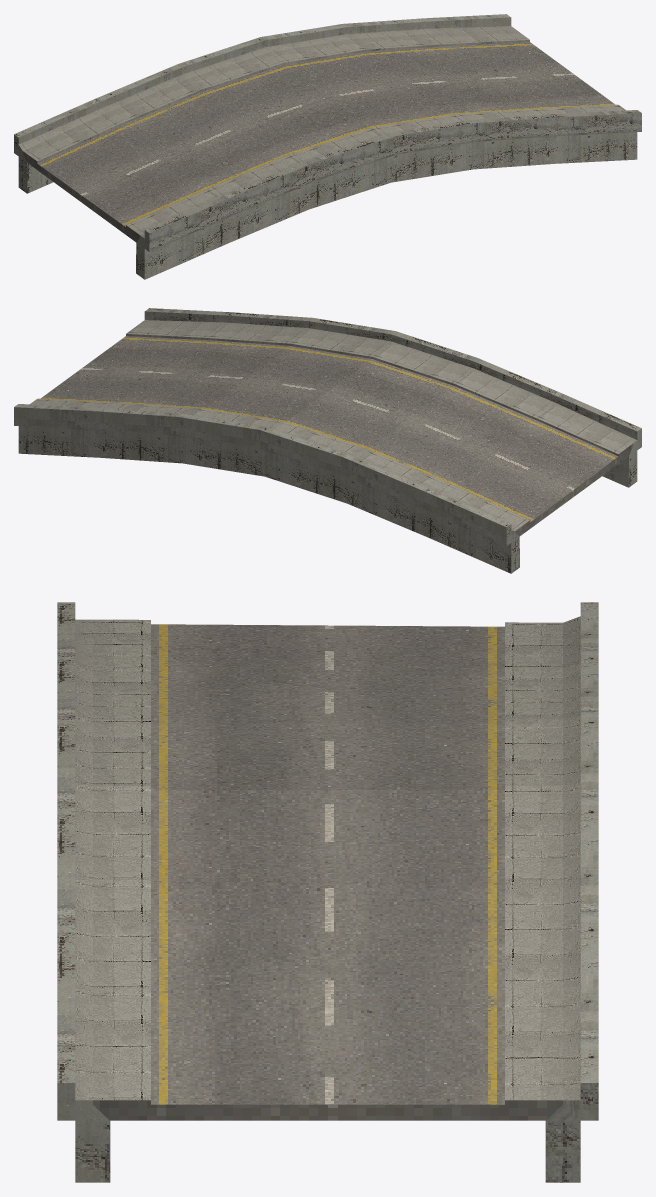
File: road_1_small_bridge.glb
The picture shows the model from 3 angles, top to bottom: view 1: azimuth 30°, elevation 25°; view 2: azimuth 150°, elevation 25°; view 3: azimuth 270°, elevation 25°; orthographic projection. The views are drawn at different scales.
Parts seen in each view (by area): view 1: road_1_small_bridge; view 2: road_1_small_bridge; view 3: road_1_small_bridge.
Part boxes in pixels (x1=…): road_1_small_bridge: x1=14, y1=14, x2=641, y2=279; road_1_small_bridge: x1=14, y1=308, x2=641, y2=573; road_1_small_bridge: x1=57, y1=602, x2=598, y2=1182.
Size of the model in its own units: 36 by 6.07 by 17.13.
3 materials, 3 textured.
